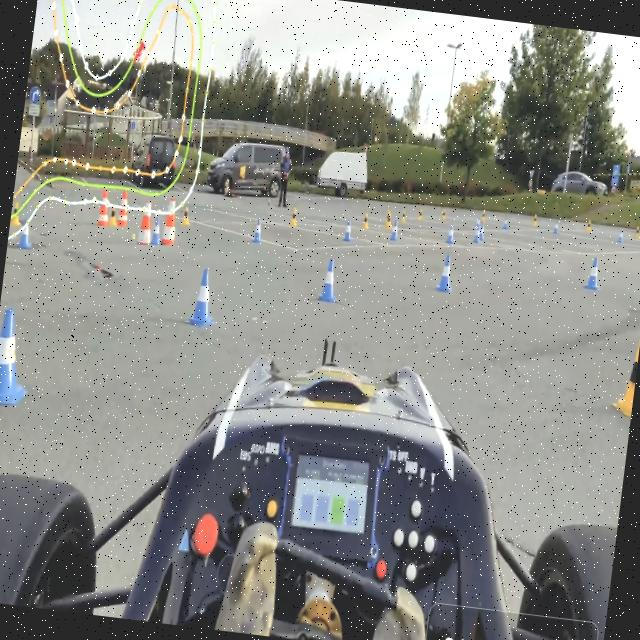blue_cone: (0, 298, 31, 417), (187, 262, 219, 334), (314, 252, 344, 302), (434, 248, 458, 298), (582, 250, 606, 292)
yellow_cone: (616, 325, 640, 421)
